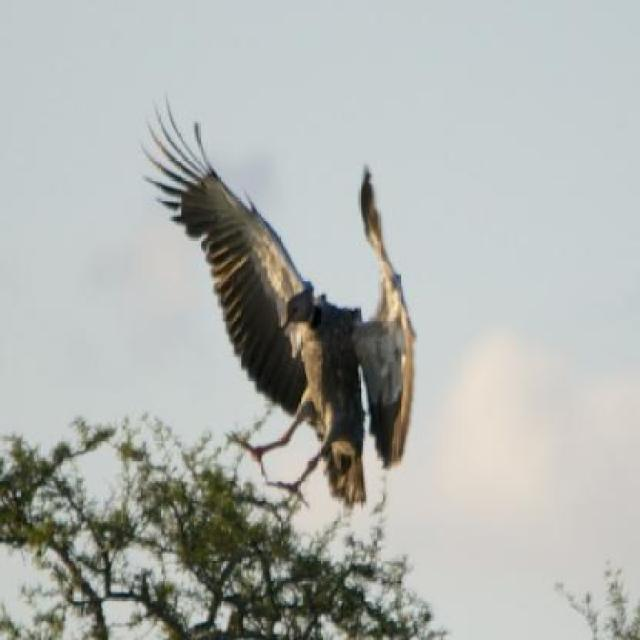Eagle: (136, 96, 414, 510)
